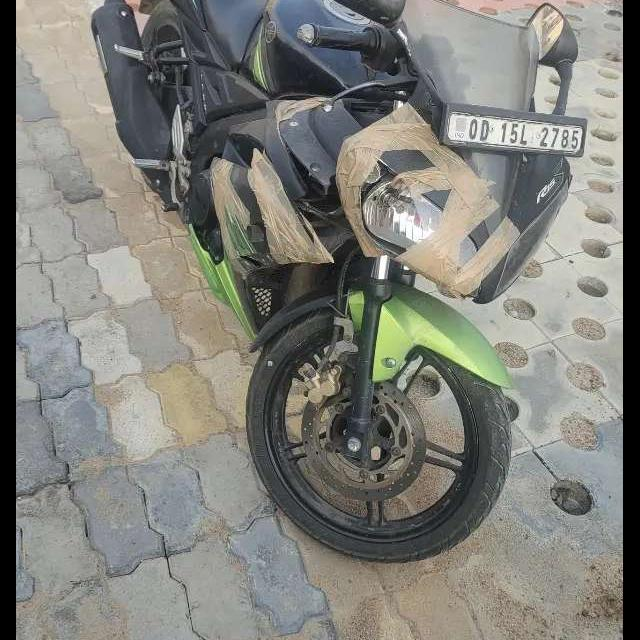Indian_Number_Plate: (448, 108, 586, 153)
